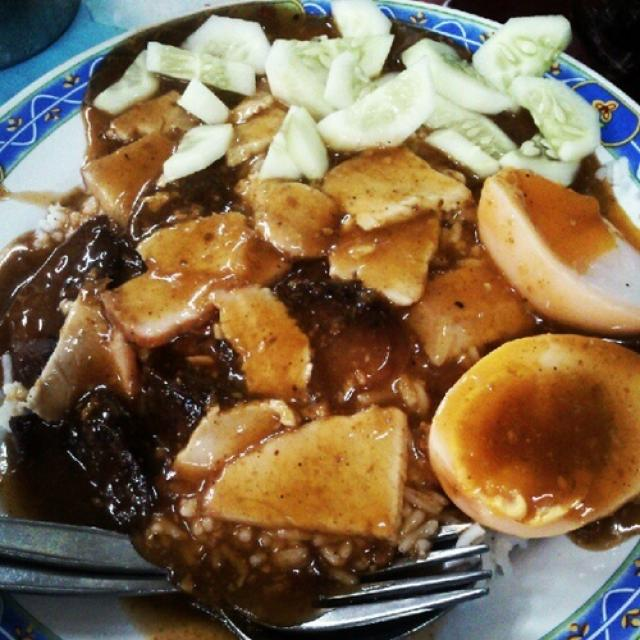猪肉菜式: (13, 23, 617, 623)
